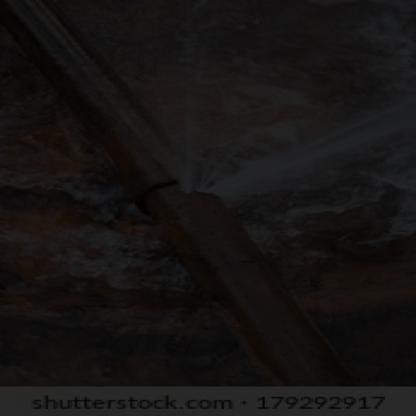burst: (172, 159, 252, 223)
